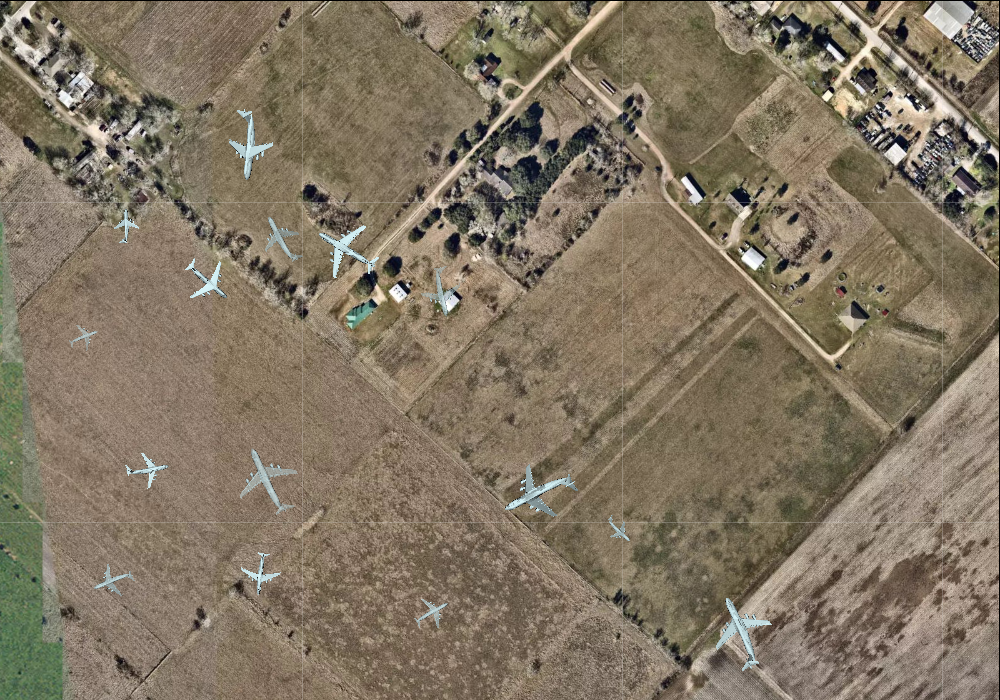plane: (490, 446, 589, 543), (692, 584, 787, 682), (222, 433, 314, 527), (302, 206, 390, 293), (171, 245, 243, 316), (212, 106, 279, 182), (250, 204, 315, 272), (414, 261, 471, 321), (86, 555, 139, 607), (406, 588, 456, 638), (121, 444, 172, 493), (237, 549, 283, 597), (598, 508, 640, 550), (63, 318, 103, 357), (108, 208, 140, 244)
